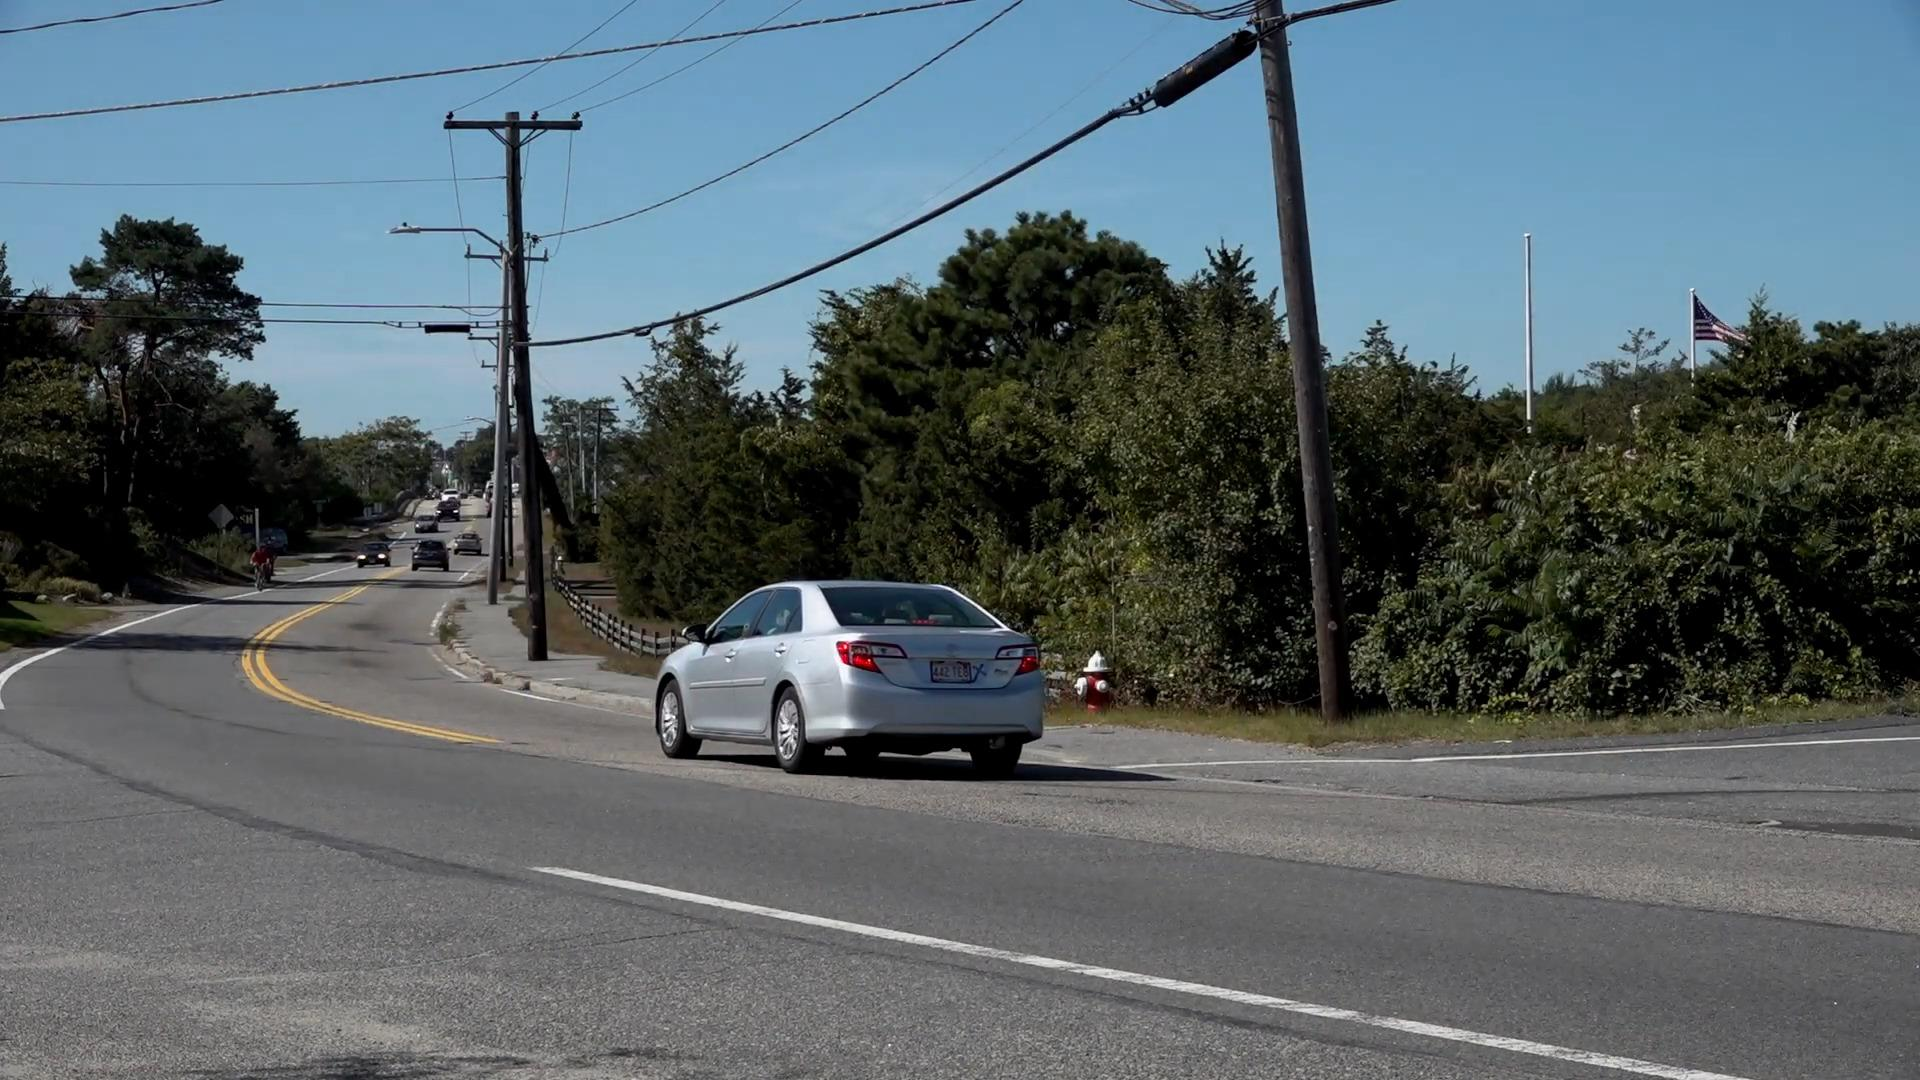sedans: (651, 575, 1040, 769)
